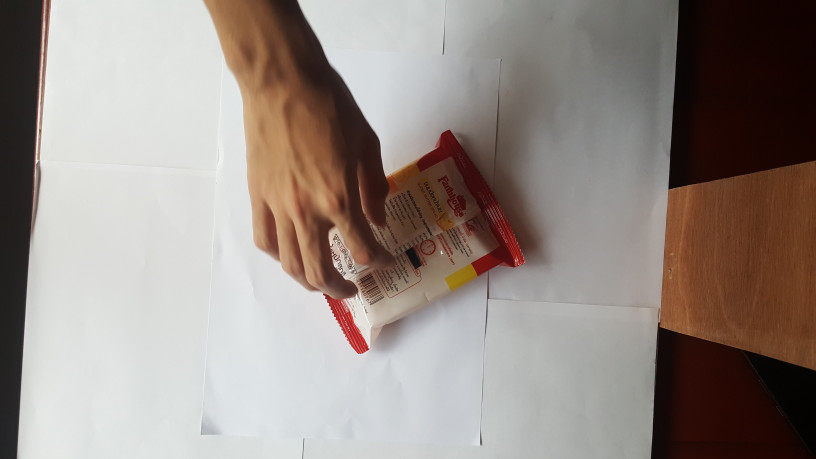farmhouse-bread-butter: (288, 120, 531, 353)
